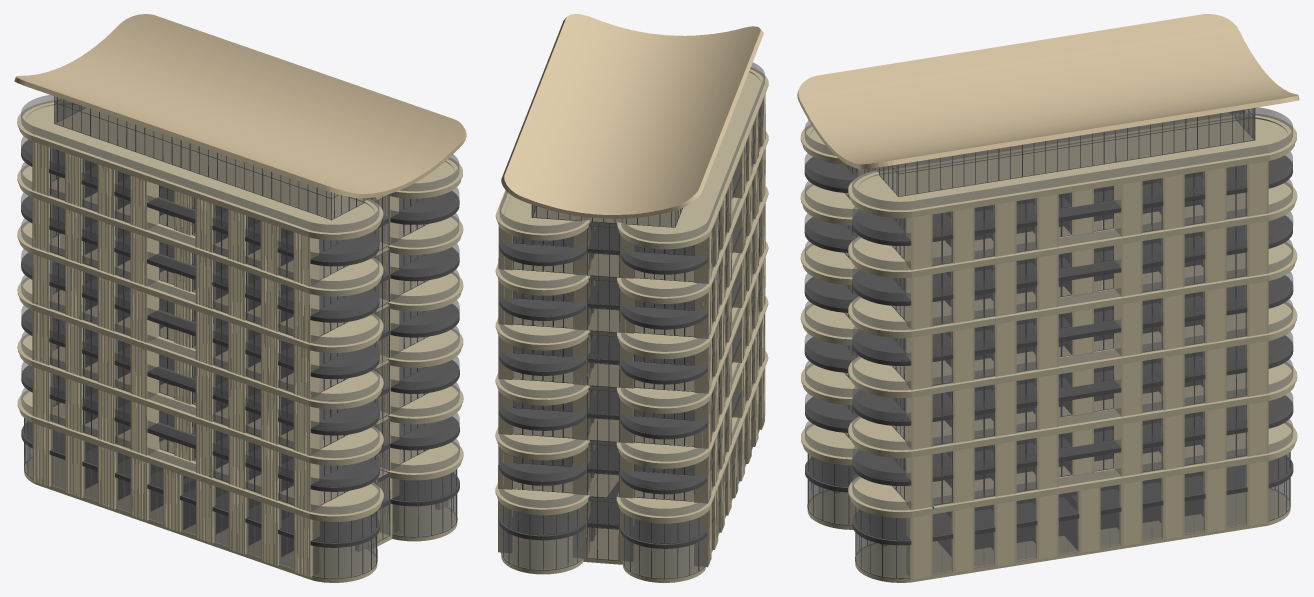
Rendered from Monaco_B1_Import3DFiles1.glb.
3 renders of one model, left to right at view 1: azimuth 30°, elevation 25°; view 2: azimuth 150°, elevation 25°; view 3: azimuth 270°, elevation 25°, orthographic. The views are drawn at different scales.
Parts seen in each view (by area): view 1: mesh_material_from_multipatch_1, mesh_material_from_multipatch_5, mesh_material_from_multipatch_6, mesh_material_from_multipatch_3, mesh_material_from_multipatch_4, mesh_material_from_multipatch_2; view 2: mesh_material_from_multipatch_1, mesh_material_from_multipatch_5, mesh_material_from_multipatch_3, mesh_material_from_multipatch_6, mesh_material_from_multipatch_2, mesh_material_from_multipatch_4; view 3: mesh_material_from_multipatch_1, mesh_material_from_multipatch_5, mesh_material_from_multipatch_6, mesh_material_from_multipatch_4, mesh_material_from_multipatch_3, mesh_material_from_multipatch_2.
Boxes of the visible parts, bbox=[...] form: mesh_material_from_multipatch_1: bbox=[17, 100, 463, 582]; mesh_material_from_multipatch_5: bbox=[21, 95, 459, 570]; mesh_material_from_multipatch_6: bbox=[21, 96, 459, 578]; mesh_material_from_multipatch_3: bbox=[14, 14, 466, 198]; mesh_material_from_multipatch_4: bbox=[34, 142, 388, 576]; mesh_material_from_multipatch_2: bbox=[24, 97, 457, 578]; mesh_material_from_multipatch_1: bbox=[495, 67, 768, 582]; mesh_material_from_multipatch_5: bbox=[499, 62, 764, 560]; mesh_material_from_multipatch_3: bbox=[501, 14, 763, 218]; mesh_material_from_multipatch_6: bbox=[498, 107, 761, 579]; mesh_material_from_multipatch_2: bbox=[501, 205, 704, 578]; mesh_material_from_multipatch_4: bbox=[587, 94, 765, 565]; mesh_material_from_multipatch_1: bbox=[800, 112, 1297, 582]; mesh_material_from_multipatch_5: bbox=[804, 107, 1293, 574]; mesh_material_from_multipatch_6: bbox=[804, 108, 1293, 578]; mesh_material_from_multipatch_4: bbox=[866, 161, 1266, 578]; mesh_material_from_multipatch_3: bbox=[797, 14, 1299, 168]; mesh_material_from_multipatch_2: bbox=[807, 108, 1289, 578].
Bounding box in the file's own units: 36.01 × 46.57 × 50.16.
